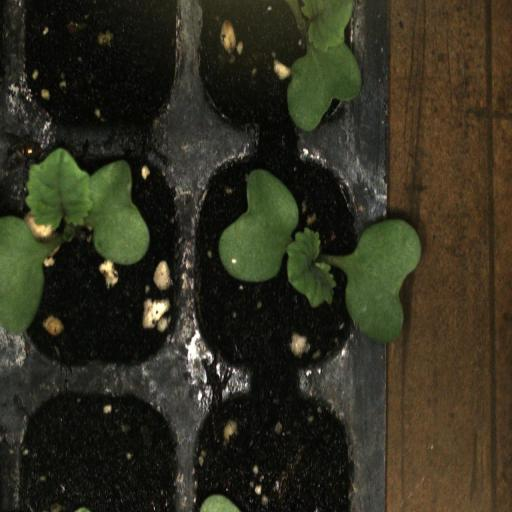noseedling: (16, 0, 184, 139), (12, 385, 184, 512)
seedling: (187, 138, 368, 389), (10, 146, 178, 386)
